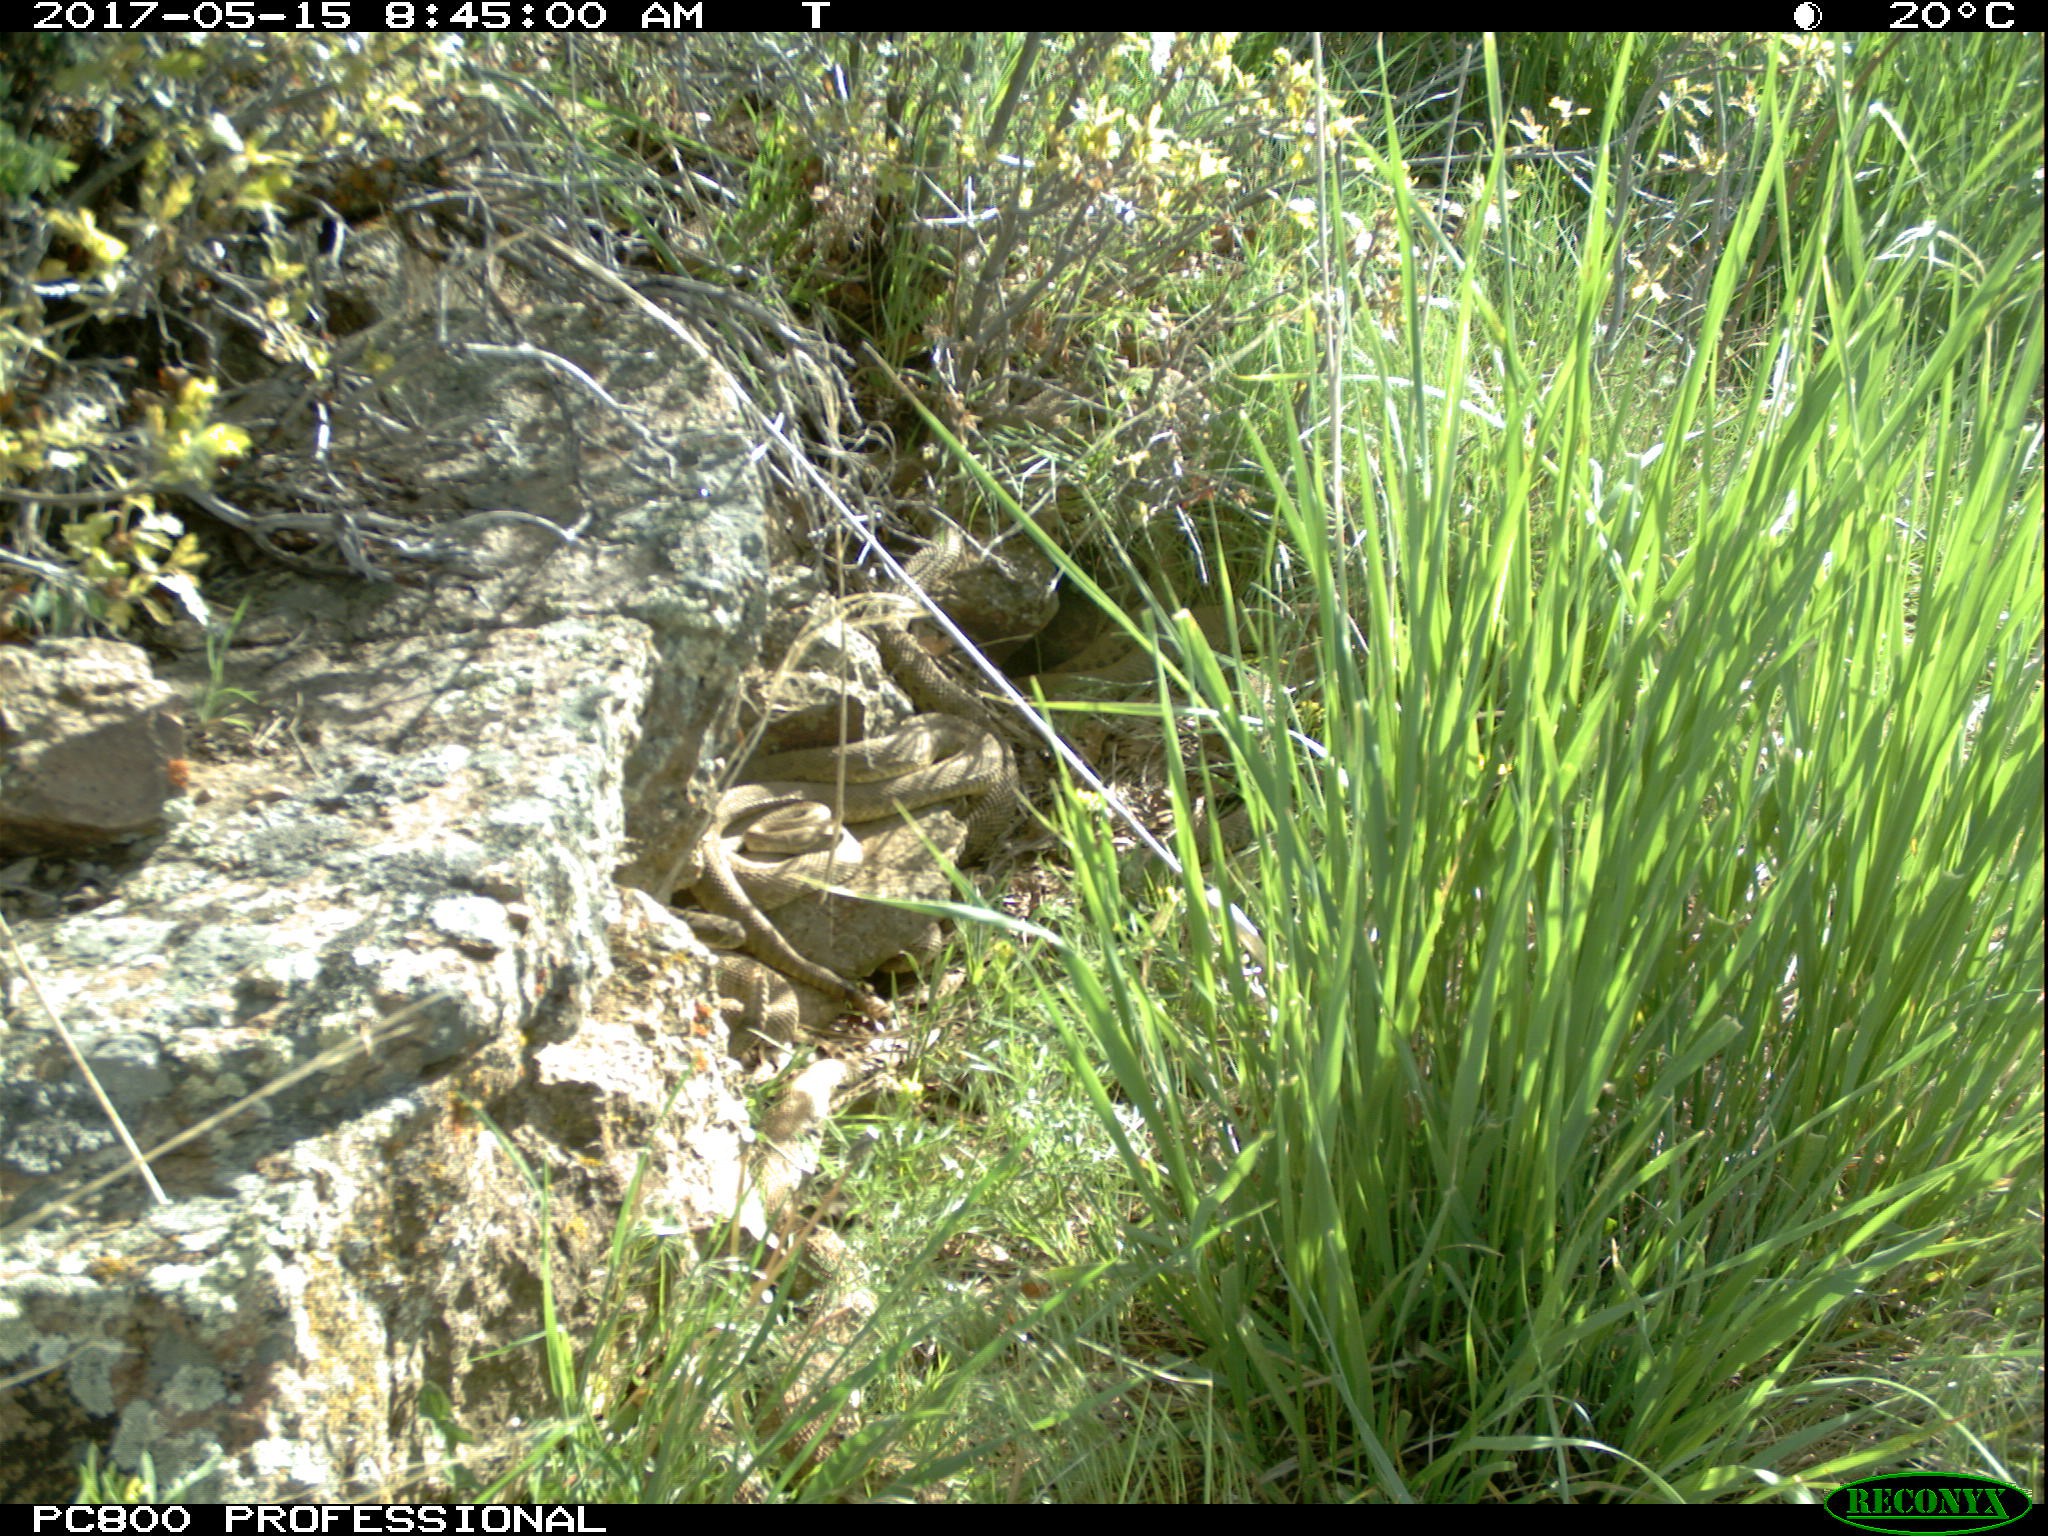snake: (760, 1054, 876, 1442), (756, 710, 1005, 812), (693, 779, 864, 920), (868, 508, 968, 707), (732, 912, 898, 1013), (1047, 607, 1214, 703), (708, 944, 793, 1066)
